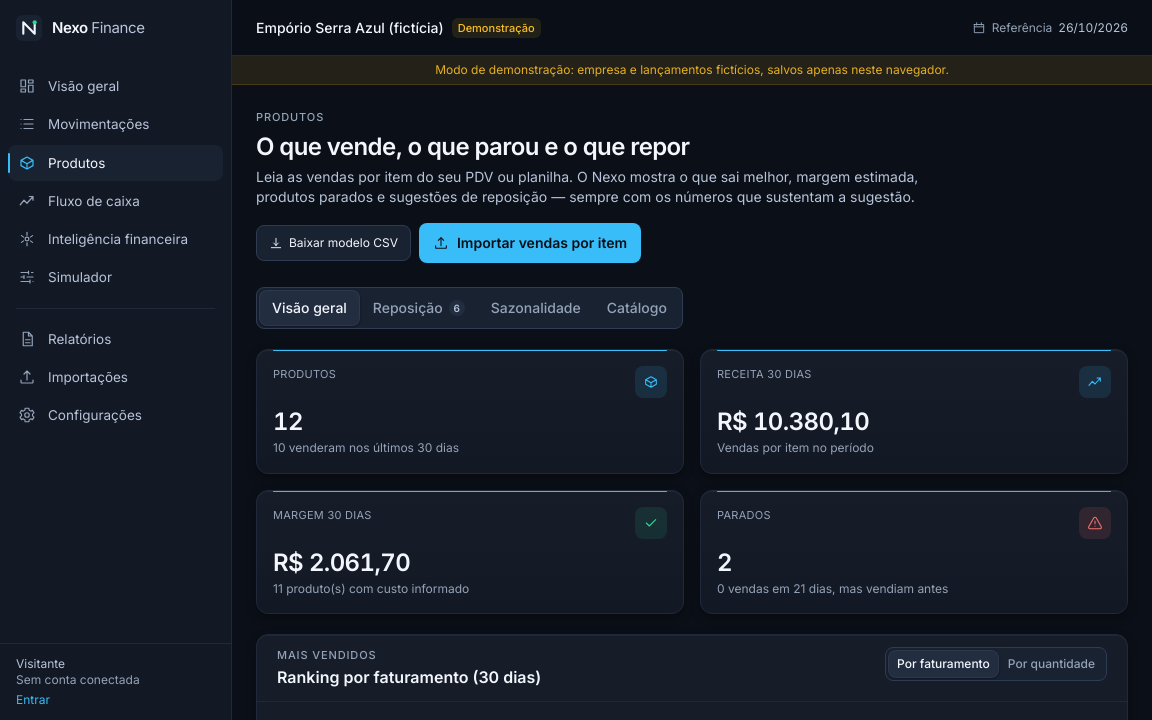
Test case: navegação › produtos: sazonalidade usa o histórico maior que 90 dias
Check: the heading "O que vende, o que parou e o que repor" is shown, box [256,132,690,161]
Click the radio button labelled "Sazonalidade" at (536,308), box [478,290,594,326]
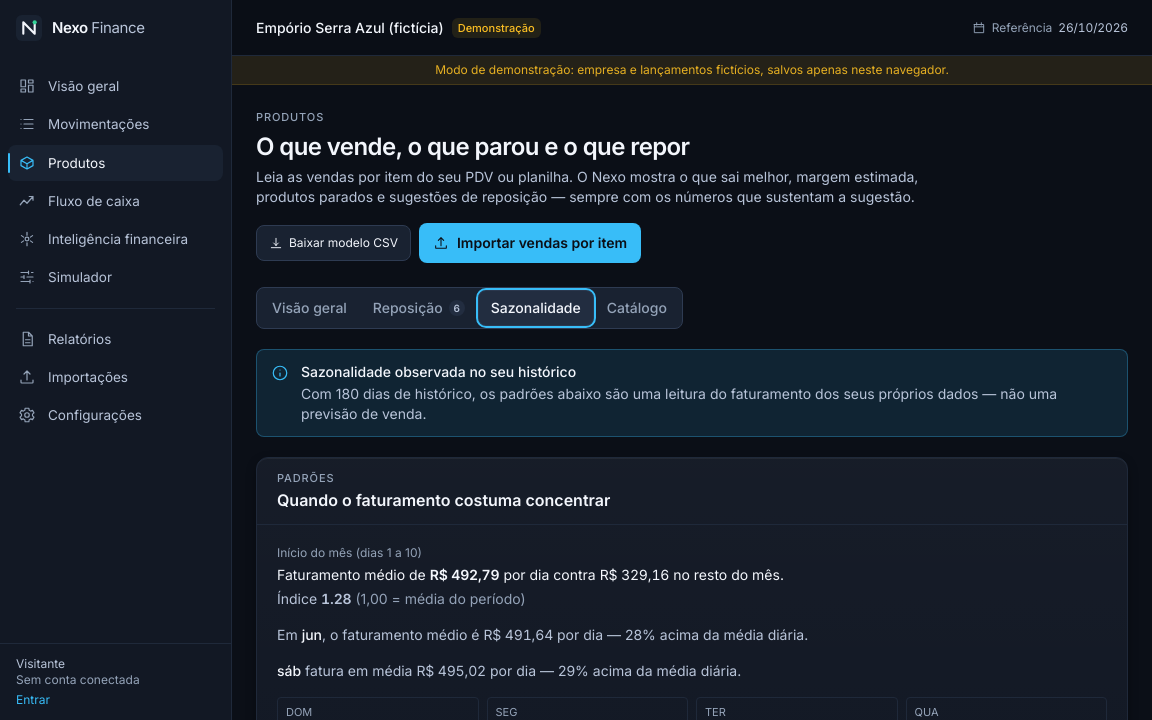
Check: the text "Com 180 dias de histórico" is shown, box [301,385,1057,422]
